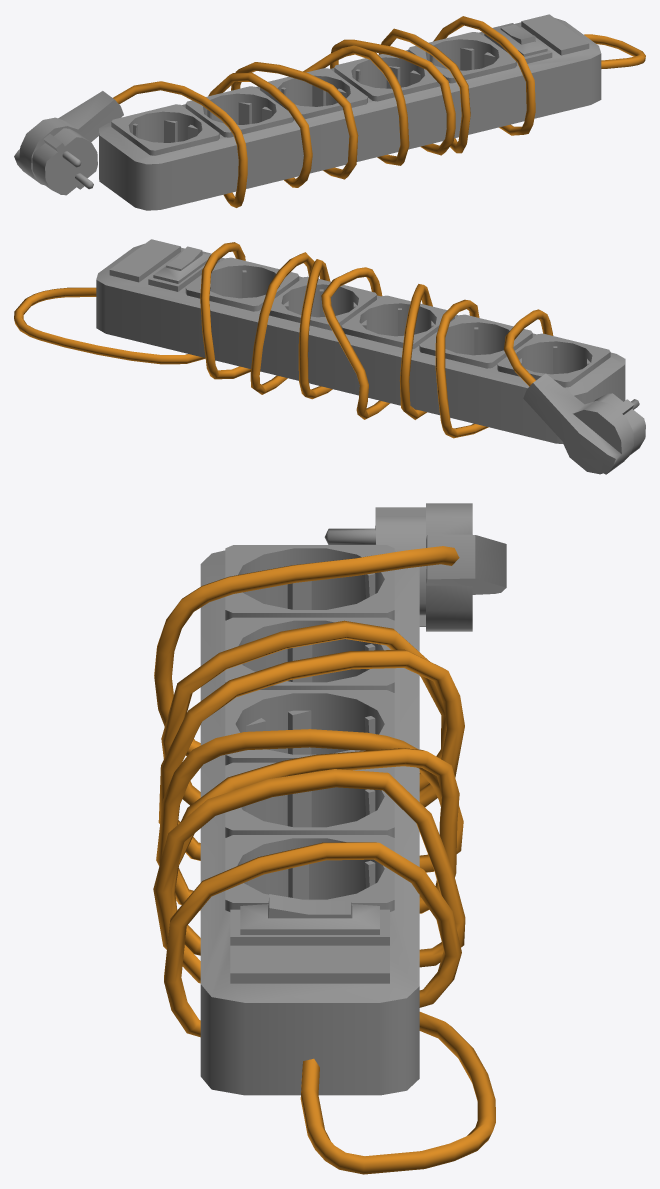
File: SM_NetWorkFilter_01_D.FBX
3 renders of one model, top to bottom at view 1: azimuth 30°, elevation 25°; view 2: azimuth 150°, elevation 25°; view 3: azimuth 270°, elevation 25°, orthographic. The views are drawn at different scales.
Parts seen in each view (by area): view 1: SM_NetWorkFilter_01_D; view 2: SM_NetWorkFilter_01_D; view 3: SM_NetWorkFilter_01_D.
Boxes of the visible parts, box(x1,y1,x2,y2) form: SM_NetWorkFilter_01_D: box(14, 14, 645, 210); SM_NetWorkFilter_01_D: box(14, 239, 645, 474); SM_NetWorkFilter_01_D: box(153, 503, 506, 1174).
Size of what is drawn, in the model's own units: 52.95 by 9.07 by 13.59.
